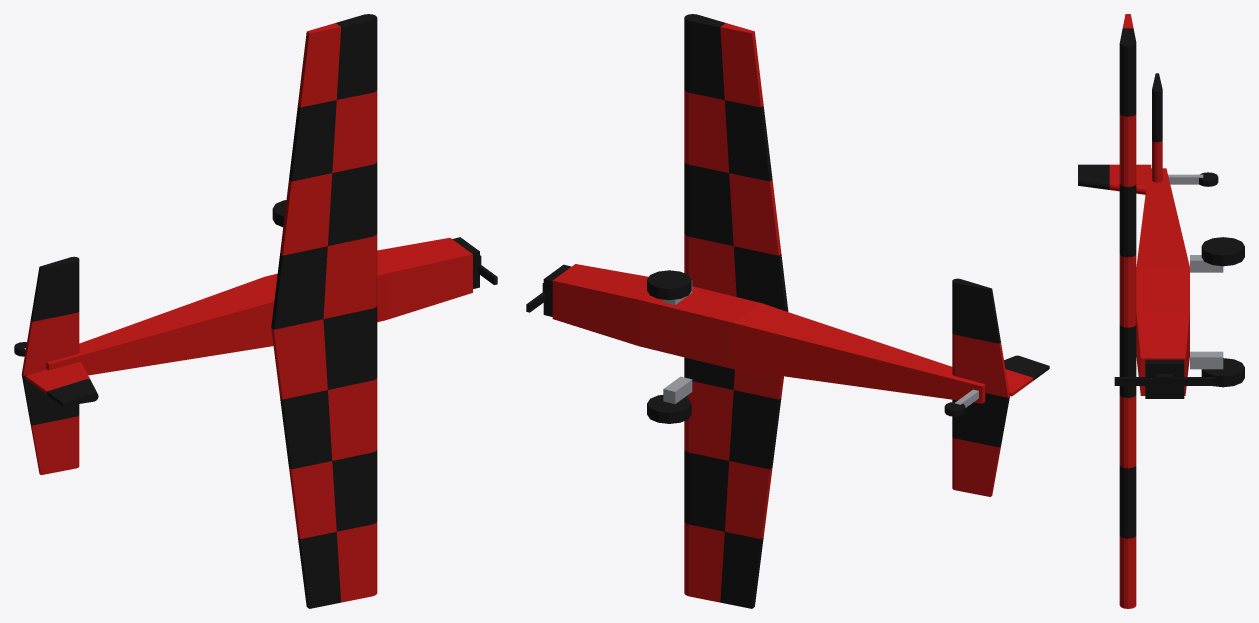
File: falcon_trainer.obj
The picture shows the model from 3 angles, left to right: view 1: azimuth 30°, elevation 25°; view 2: azimuth 150°, elevation 25°; view 3: azimuth 270°, elevation 25°; orthographic projection. The views are drawn at different scales.
Bounding box in the file's own units: 1.55 × 1.86 × 0.5.
